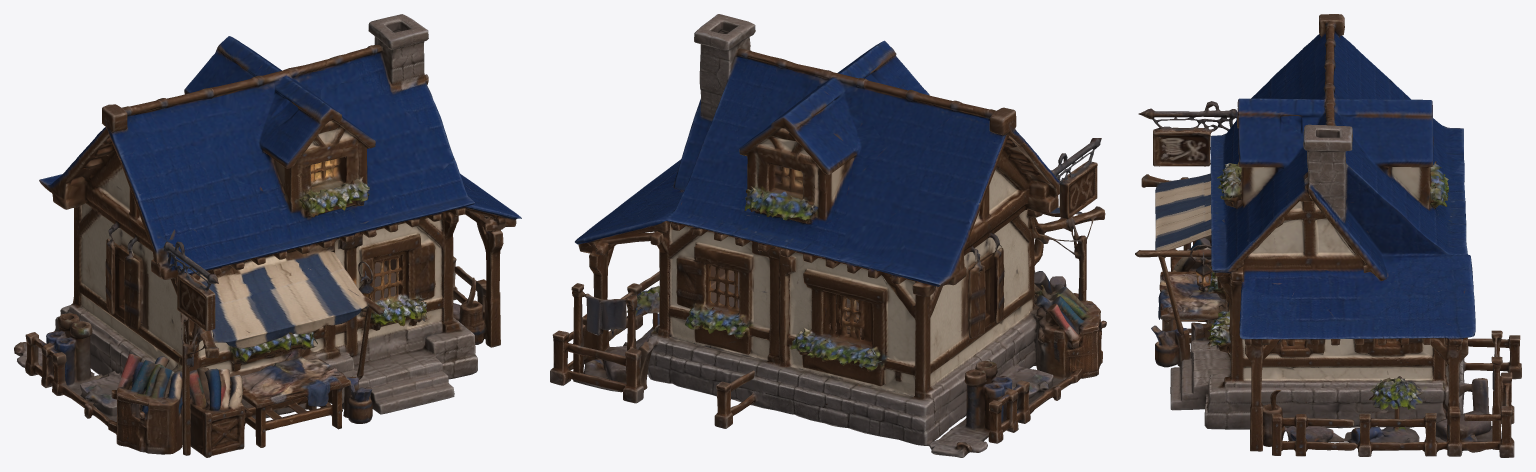
3 renders of one model, left to right at view 1: azimuth 30°, elevation 25°; view 2: azimuth 150°, elevation 25°; view 3: azimuth 270°, elevation 25°, orthographic. The views are drawn at different scales.
Bounding box in the file's own units: 12.61 × 9.05 × 10.9.
Materials: 1 (1 with a texture image).
